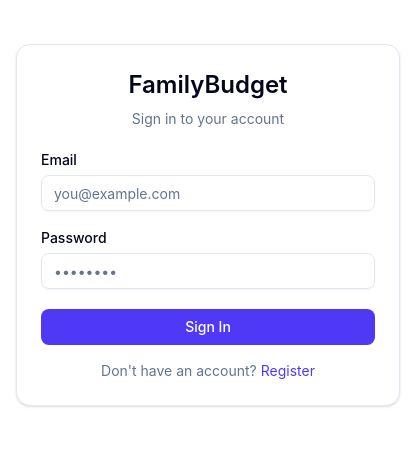
Test case: LoginPage › shows validation error for an invalid email
Type "notanemail" into the field labelled "Email". click: (208, 193)
box: [41,175,375,211]
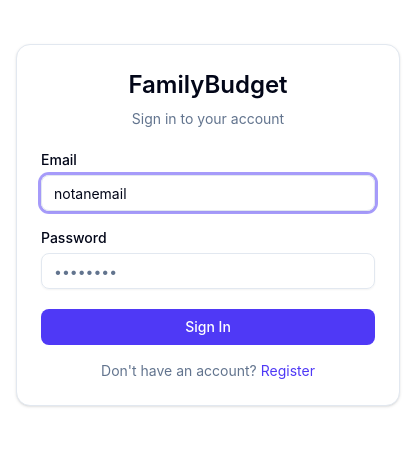
Click the button "Sign In". click: (208, 327)
box: [41,309,375,345]
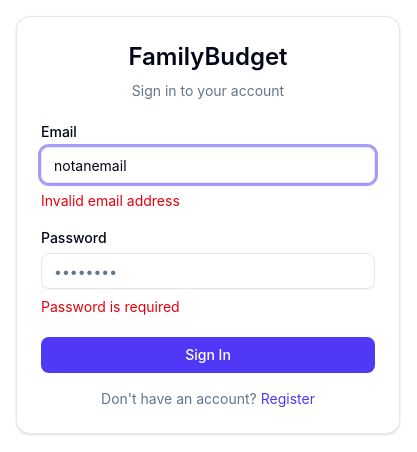
Check: the text "Invalid email address" is shown, box [41,192,180,209]
